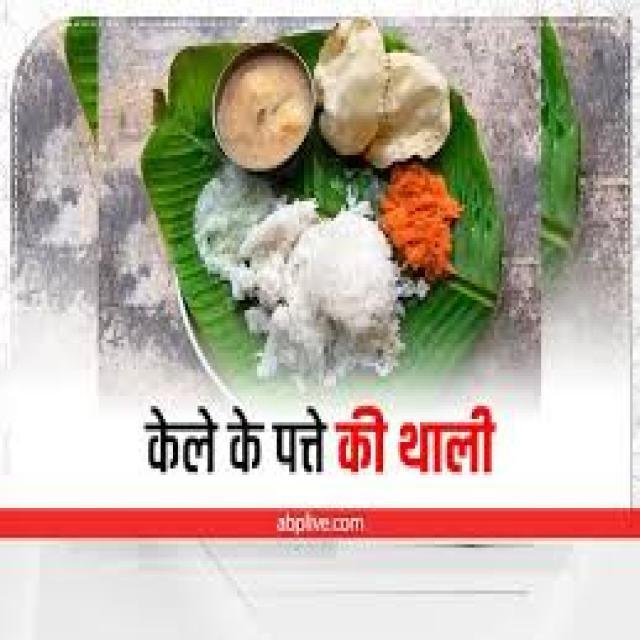papad: (308, 23, 463, 189)
rice: (291, 204, 407, 371)
sambar-rasam: (205, 40, 322, 182)
